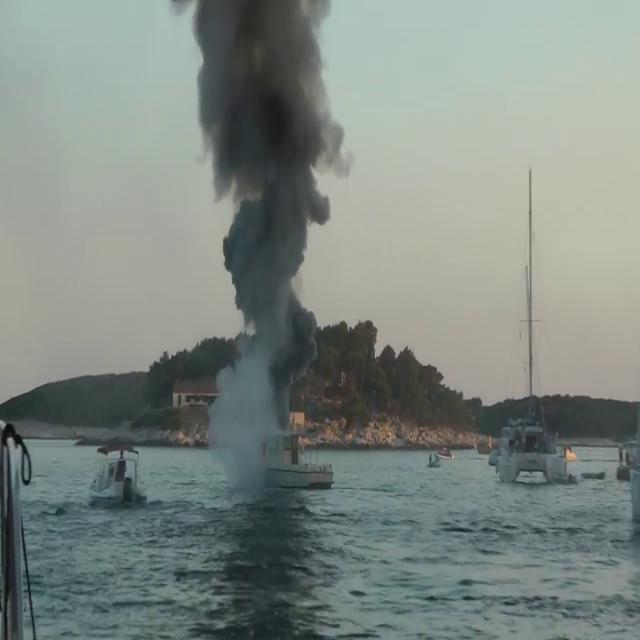Smoke: (186, 1, 352, 494)
